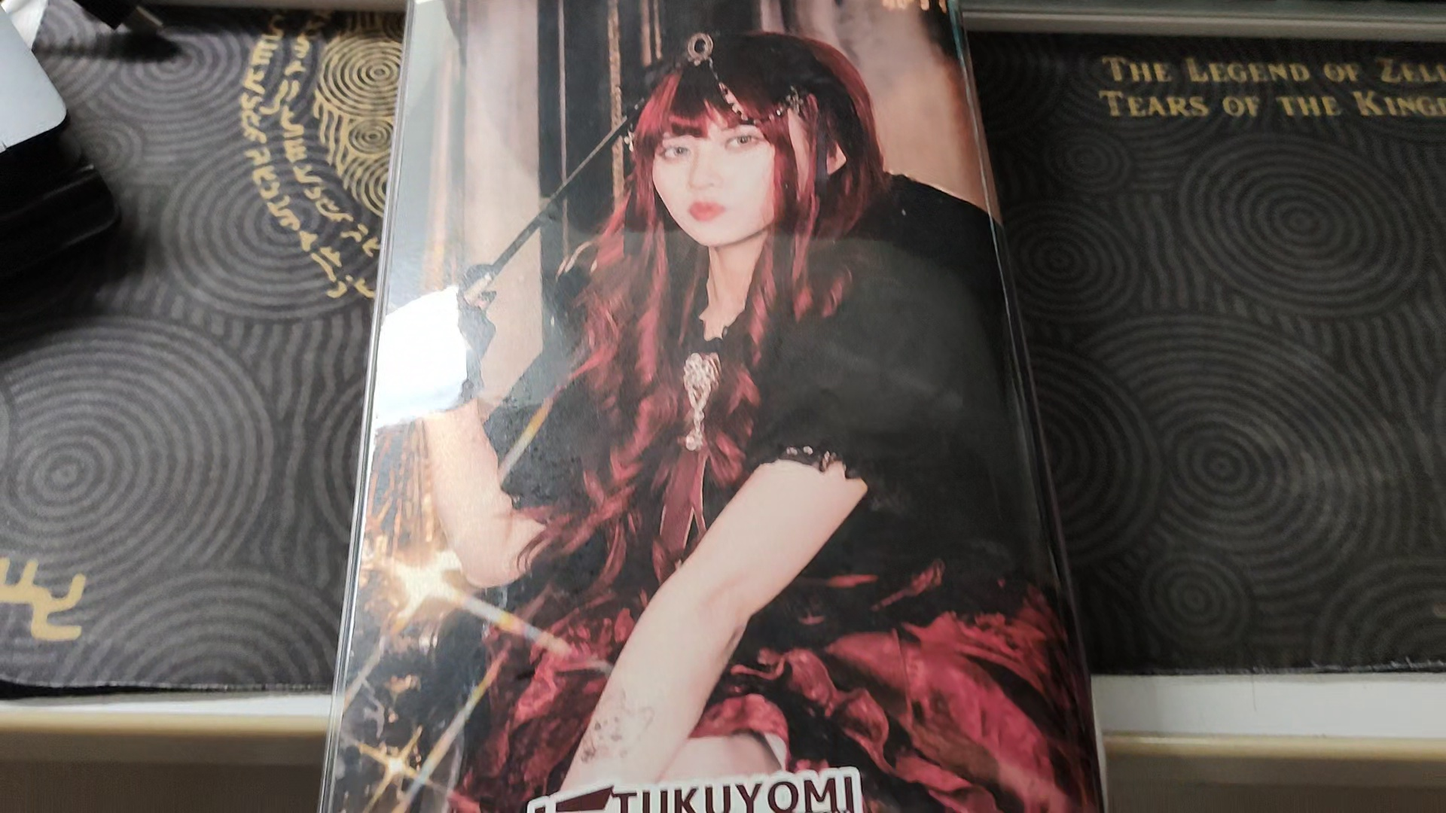Photo_book: (317, 0, 1110, 813)
